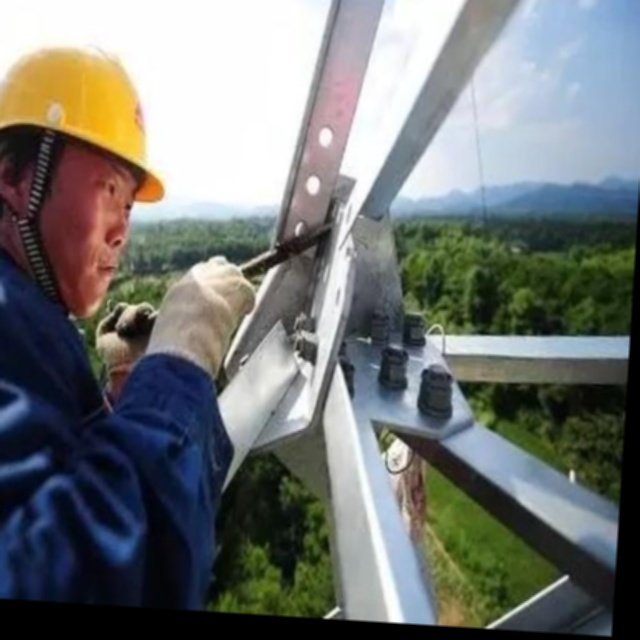Con_Casco: (0, 36, 173, 303)
